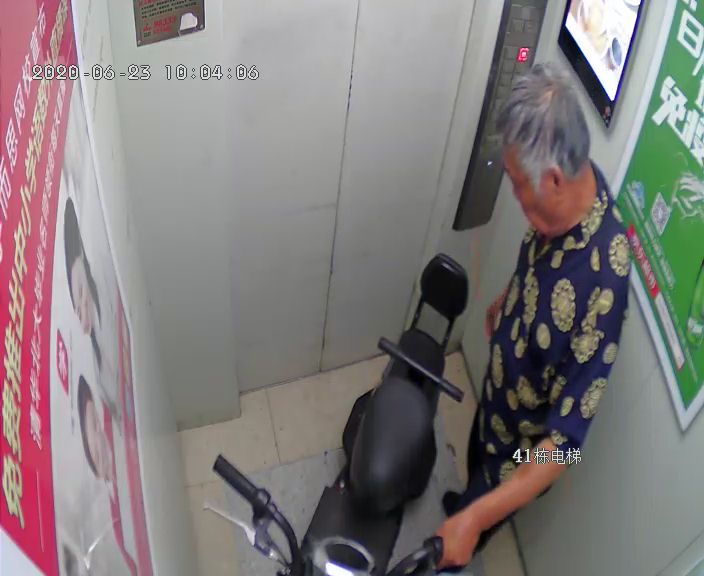Electric-bicycle: (210, 255, 473, 571)
